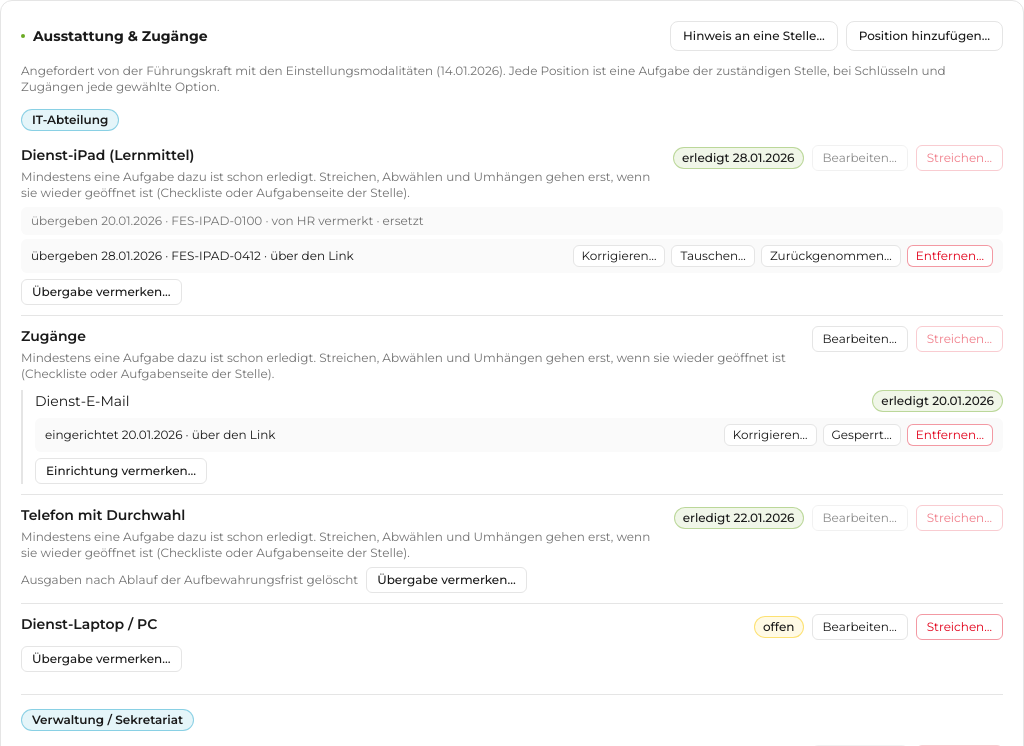
Scenario: Dialoge › Vermerken: zwei Stück mit Kennung, Datum Vorgabe heute → Body; Erfolg schließt mit der Meldung des Servers
Click the button "Übergabe vermerken…" below "Dienst-Laptop / PC" at (101, 659), box [21, 646, 182, 672]
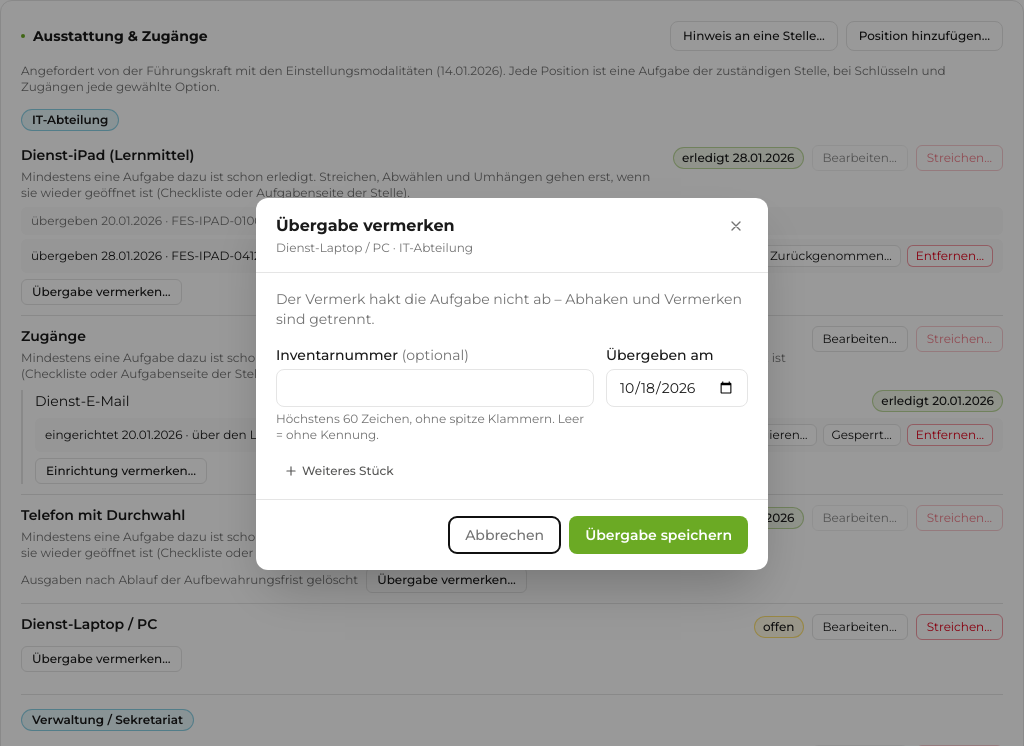
Expected: the dialog shows "Übergabe vermerken", [276, 216, 454, 235]
Expected: the dialog shows "Dienst-Laptop / PC · IT-Abteilung", [276, 240, 473, 255]
Type "  FES-NB-0007 " into the field labelled "Inventarnummer (optional)" at (435, 388), box [276, 369, 594, 407]
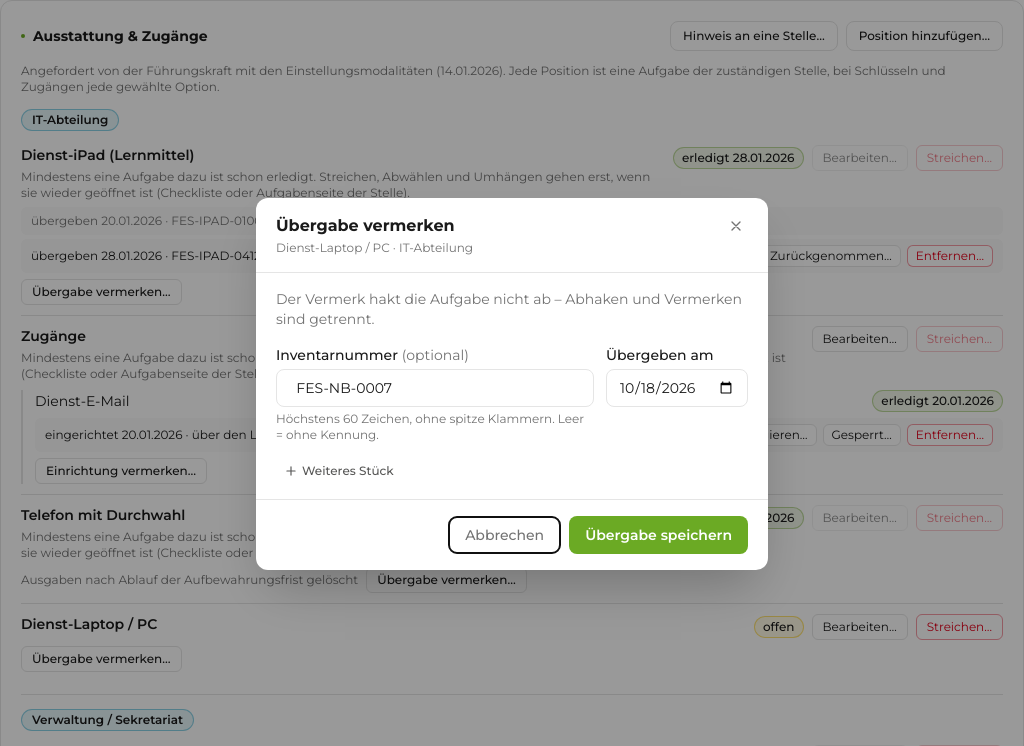
Click the button "Weiteres Stück" at (339, 471), box [276, 459, 402, 483]
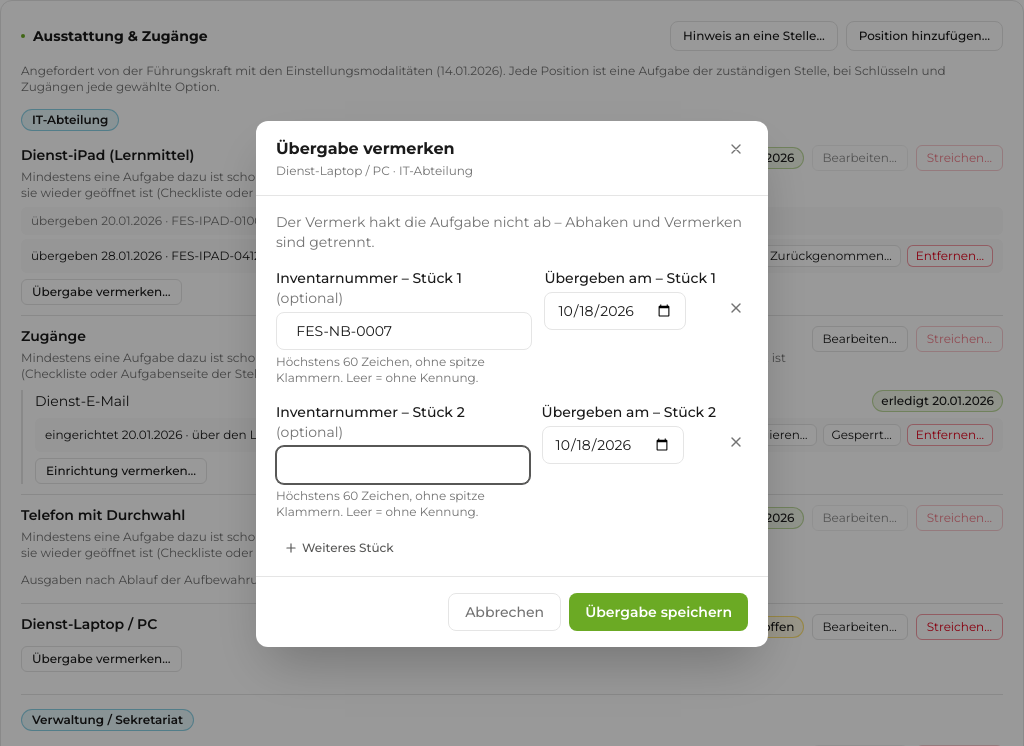
Expected: the number of fields labelled "Inventarnummer – Stück 1 (optional)" is 2, [276, 312, 532, 350]; [276, 446, 530, 484]
Expected: the date field labelled "Übergeben am – Stück 2" is shown, [542, 426, 684, 464]
Click the button "Übergabe speichern" at (659, 612), box [569, 593, 748, 631]
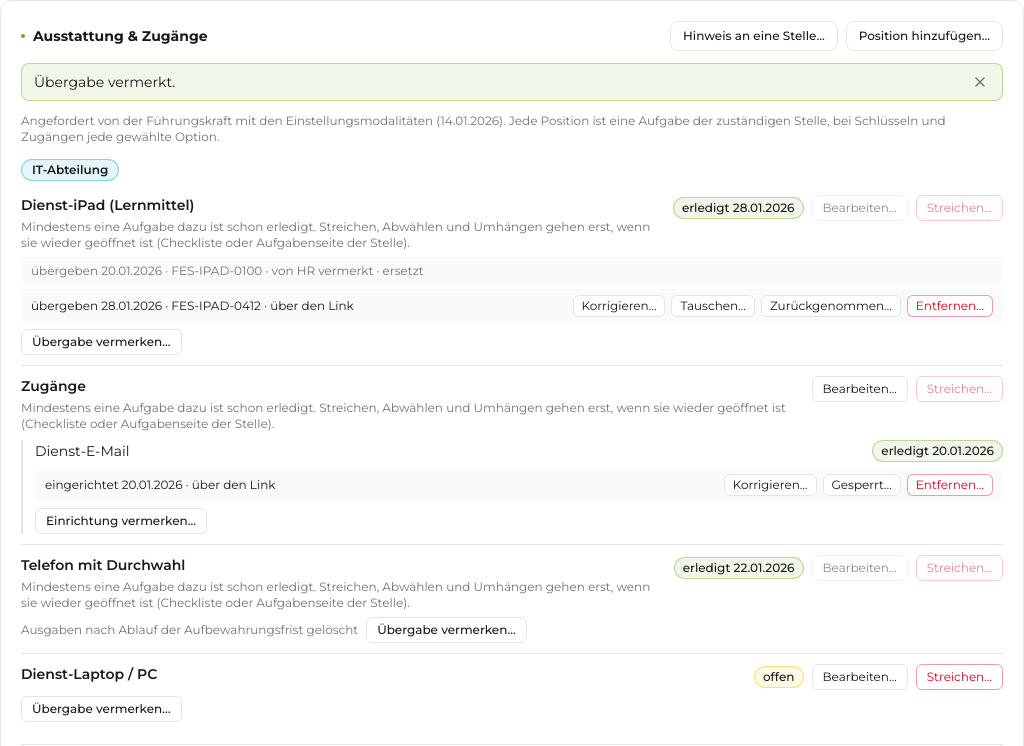
Expected: the message "Übergabe vermerkt." is shown, [21, 63, 1003, 101]
